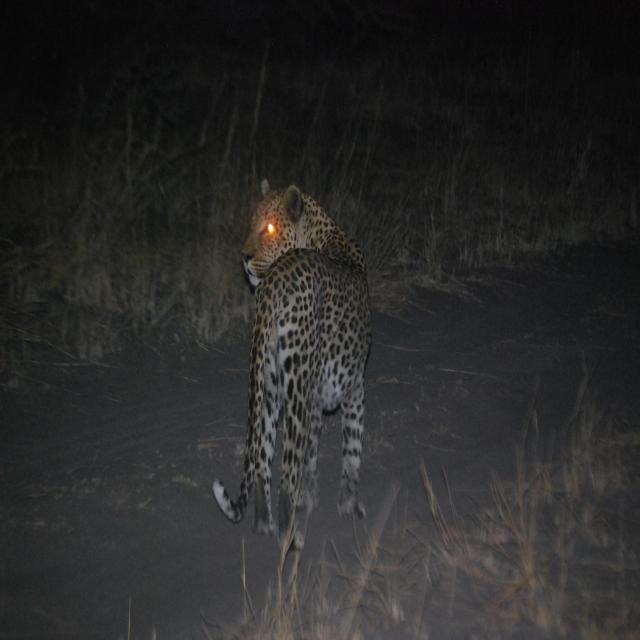Leopard: (225, 181, 379, 574)
